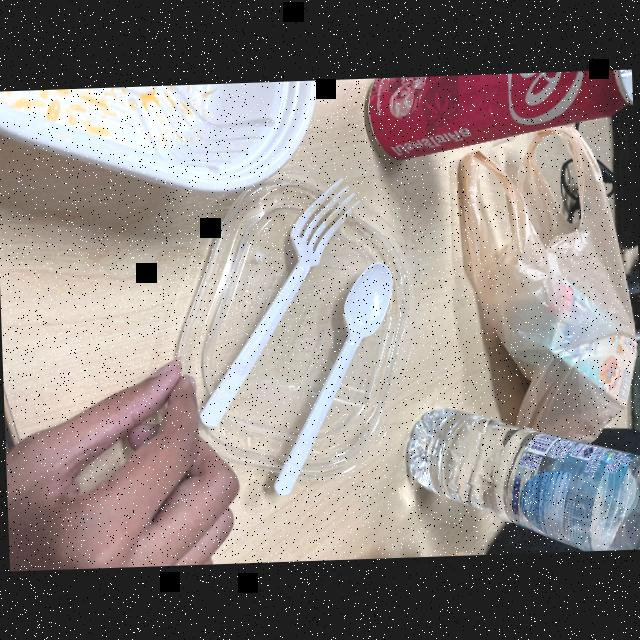plastic_spoon: (177, 173, 366, 428), (262, 253, 420, 497)
